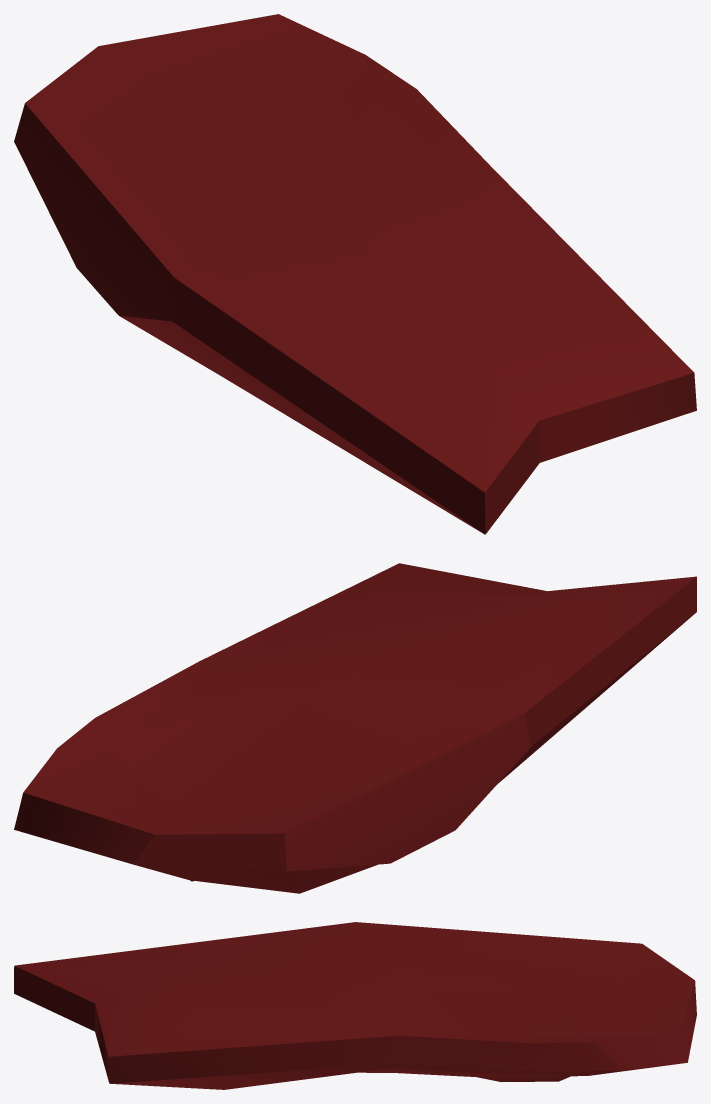
Rendered from FloatEarth1.fbx.
3 renders of one model, top to bottom at view 1: azimuth 30°, elevation 25°; view 2: azimuth 150°, elevation 25°; view 3: azimuth 270°, elevation 25°, orthographic. The views are drawn at different scales.
Visible parts, largest first — view 1: FloatEarth1; view 2: FloatEarth1; view 3: FloatEarth1.
Boxes of the visible parts, <box> form: FloatEarth1: <box>14,14,696,534</box>; FloatEarth1: <box>14,563,696,893</box>; FloatEarth1: <box>14,922,696,1089</box>.
Bounding box in the file's own units: 687 × 1587 × 239.
